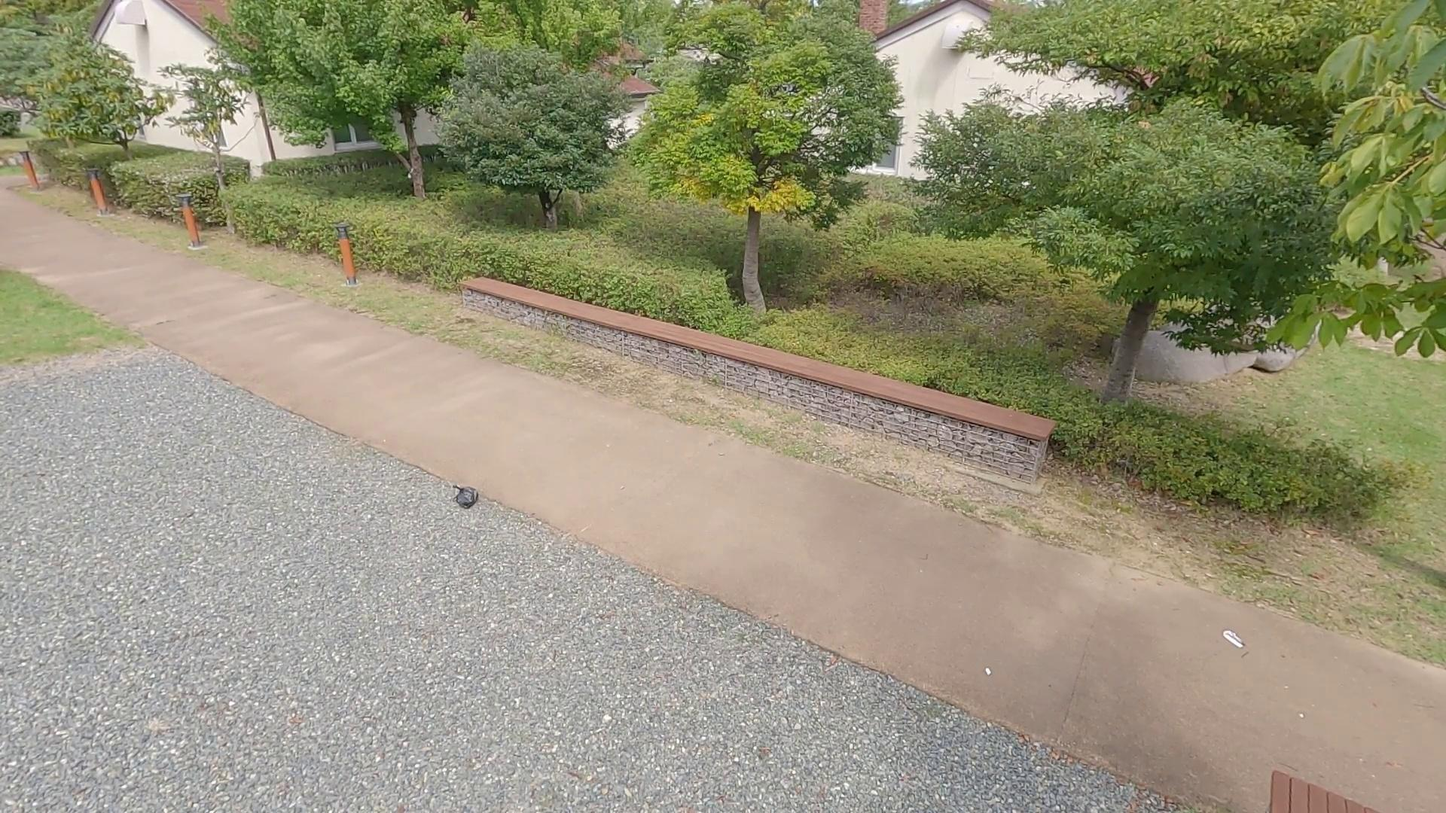trash: (449, 481, 484, 517)
